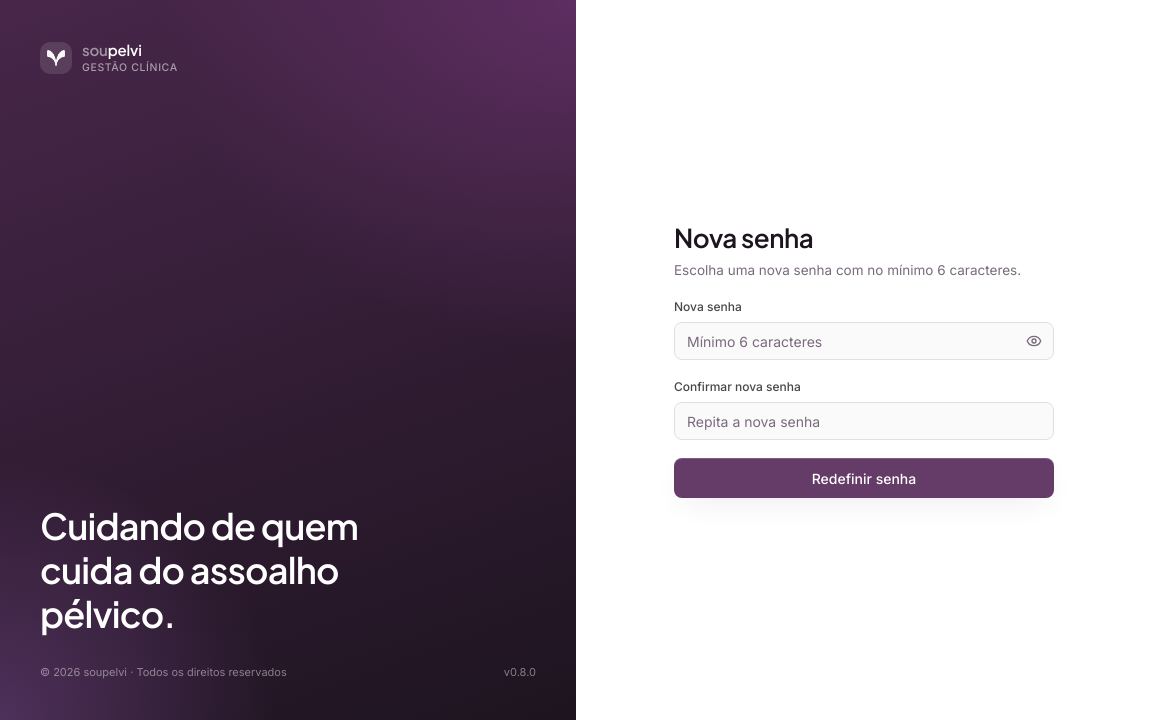
Test: ResetPassword page › exibe erro se senhas não coincidem
This screenshot has width=1152, height=720.
In the password field labelled "Nova senha": point(864, 341) [674,322,1054,360], type "senha123"
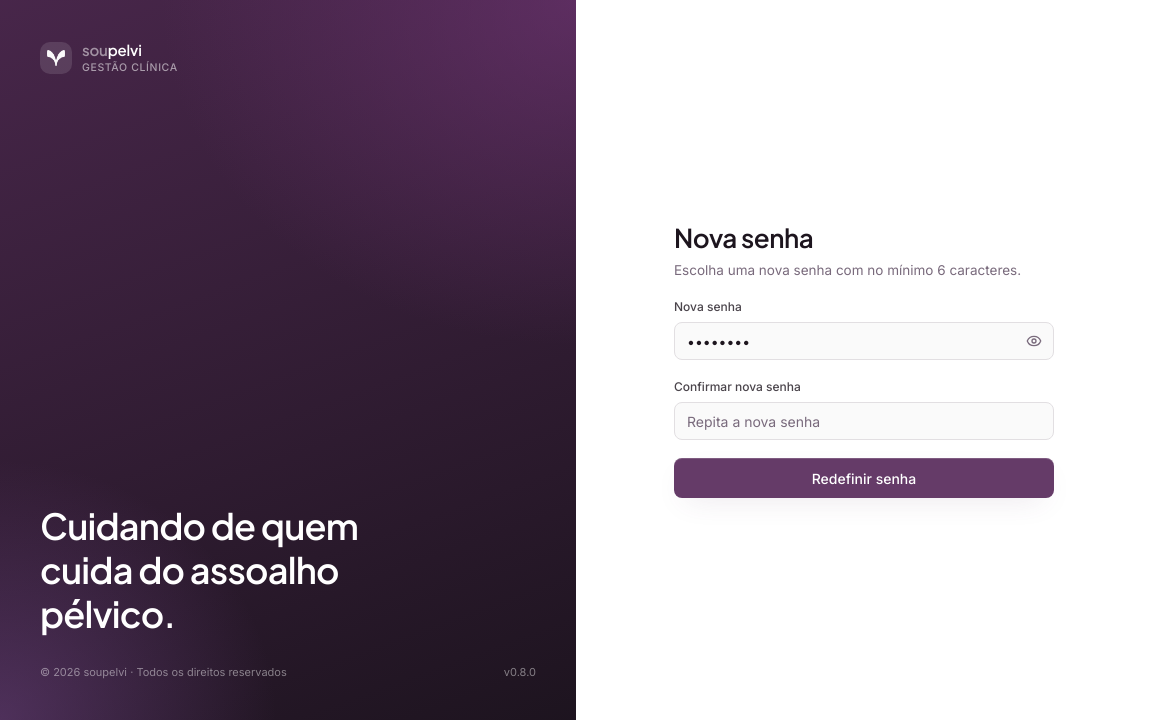
In the password field labelled "Confirmar nova senha": point(864, 421) [674,402,1054,440], type "diferente"
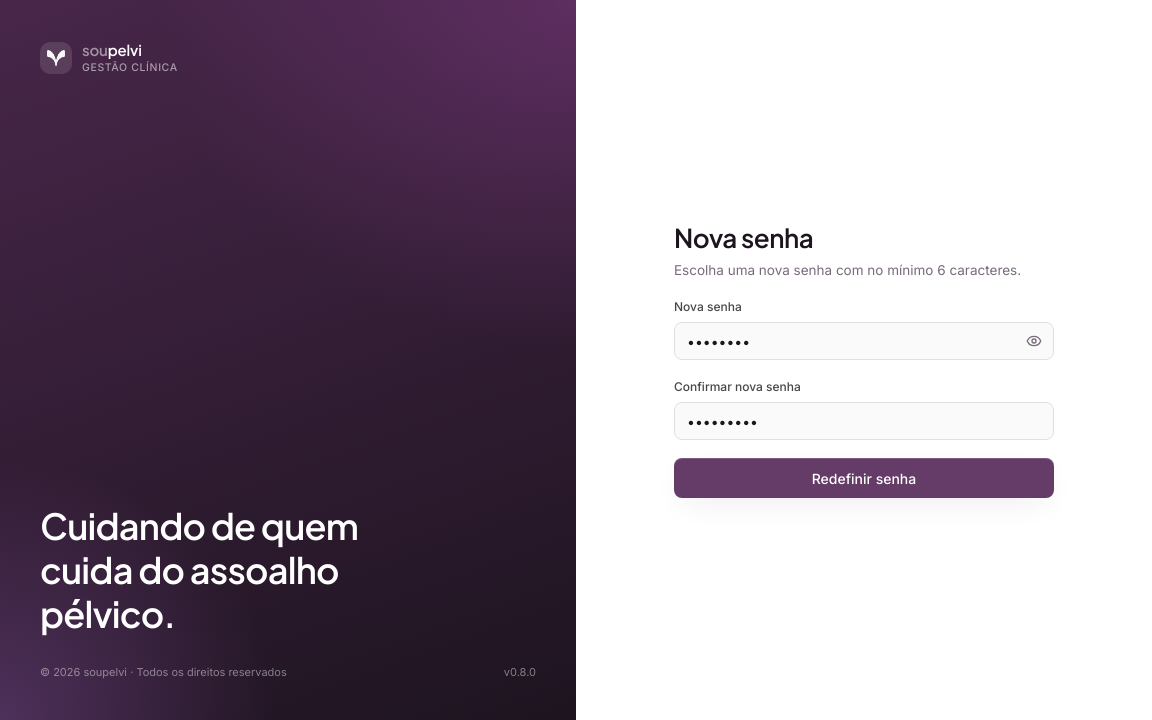
Click the button "Redefinir senha": point(864, 478) [674,458,1054,498]
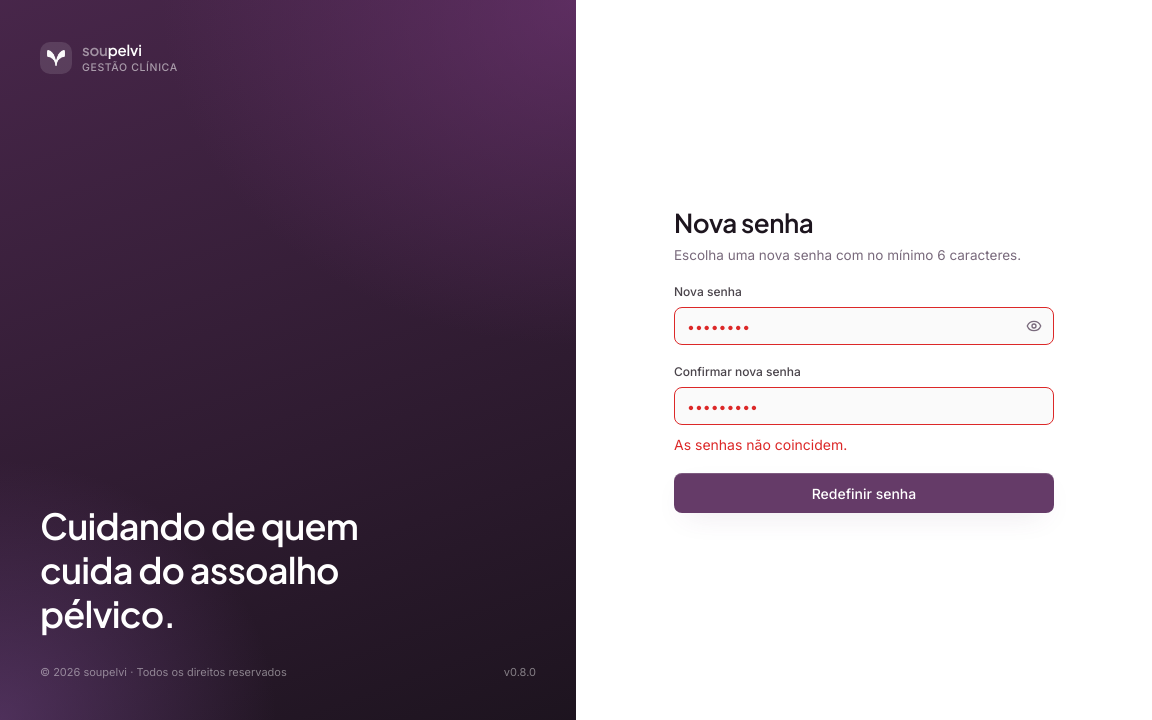
Result: the message shows "senhas não coincidem" at [674,436,847,453]
